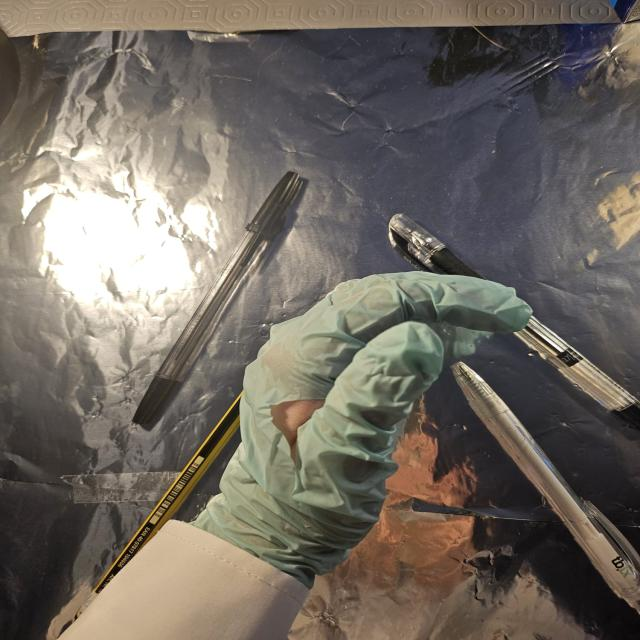gloves_damaged: (189, 268, 538, 574)
